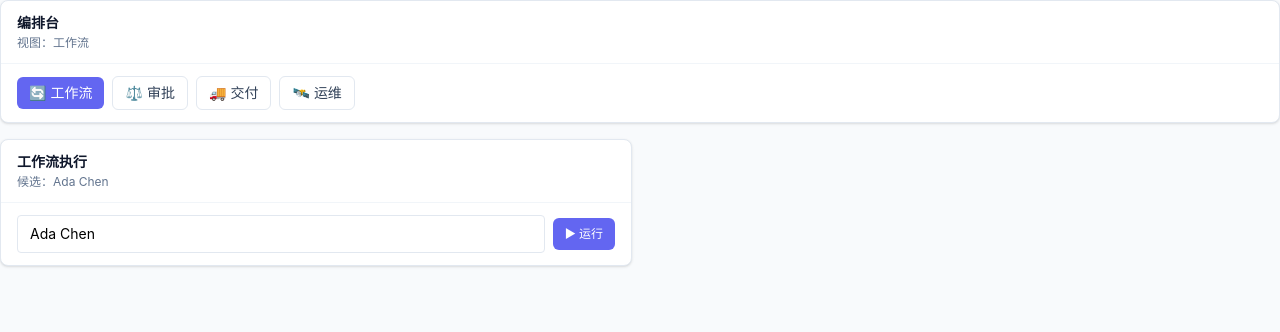
Scenario: V132 ConsoleShell exposes all 4 panels › all 4 panel types are reachable
The image size is (1280, 332).
Expected: the element with test id "workflow-panel" is shown, [0,139,632,266]
switch to approvals
Click the tab with test id "shell-tab-approvals" at (150, 93), box [112,76,188,110]
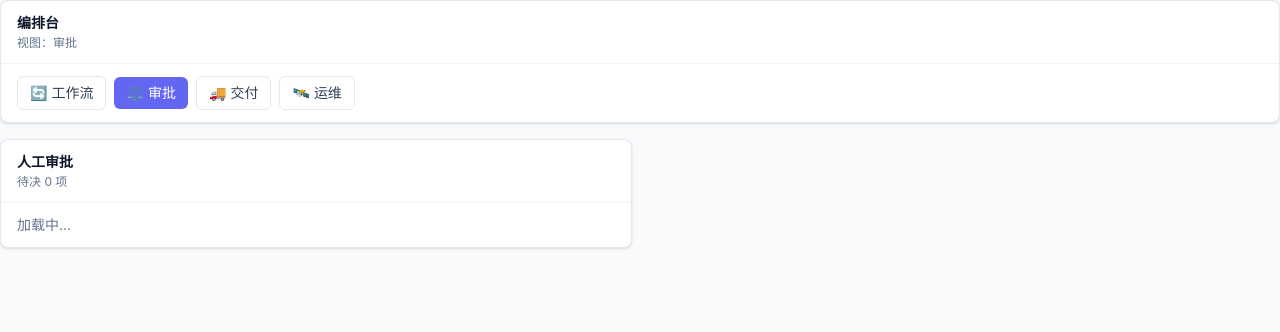
Expected: the element with test id "approval-panel" is shown, [0,139,632,248]
switch to delivery
Click the tab with test id "shell-tab-delivery" at (234, 93), box [196,76,271,110]
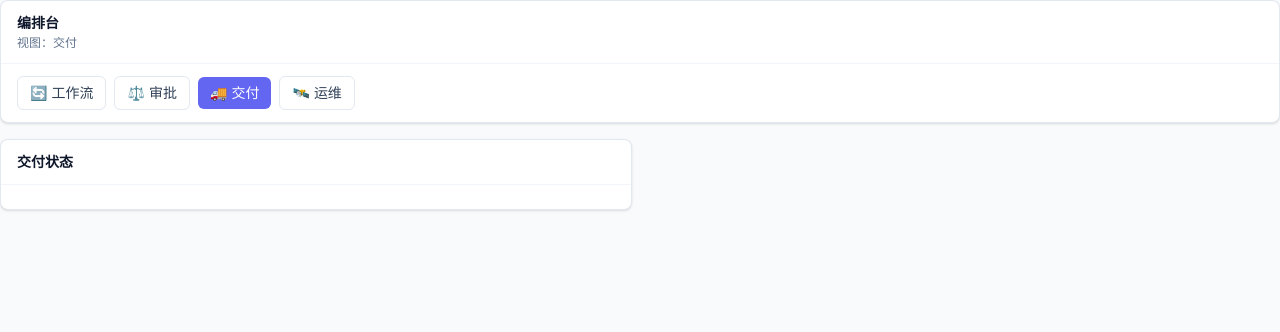
Expected: the element with test id "delivery-panel" is shown, [0,139,632,210]
switch to operations
Click the tab with test id "shell-tab-operations" at (317, 93), box [279,76,355,110]
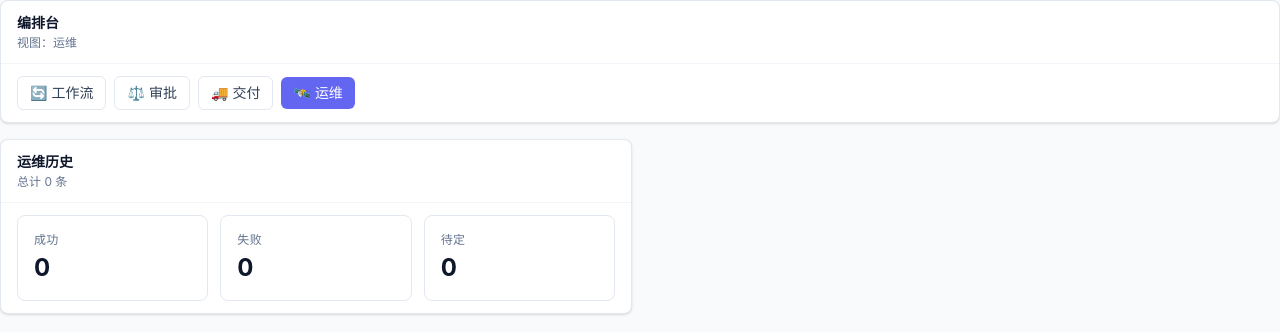
Expected: the element with test id "operations-panel" is shown, [0,139,632,314]
